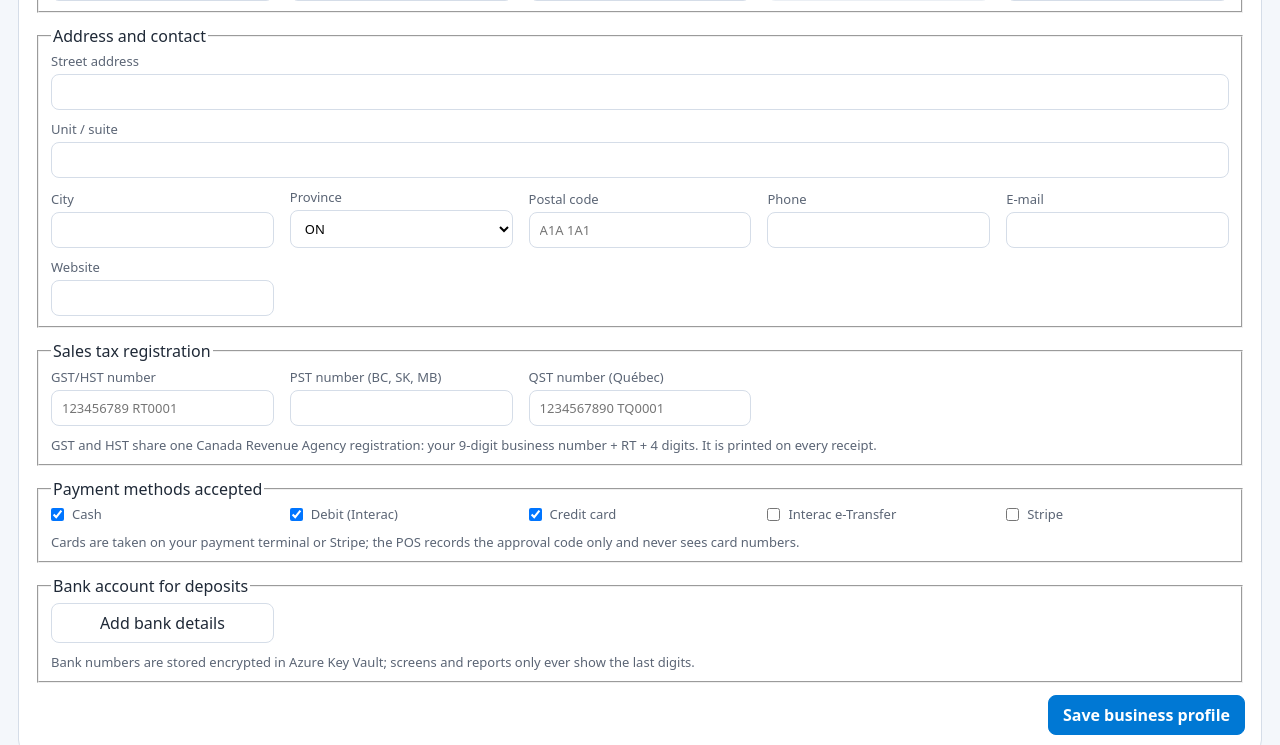
it: <Business> › shows API errors
(page scrolled)
Click the button "Save business profile" at x=1146, y=715, box [1048,695,1245,735]
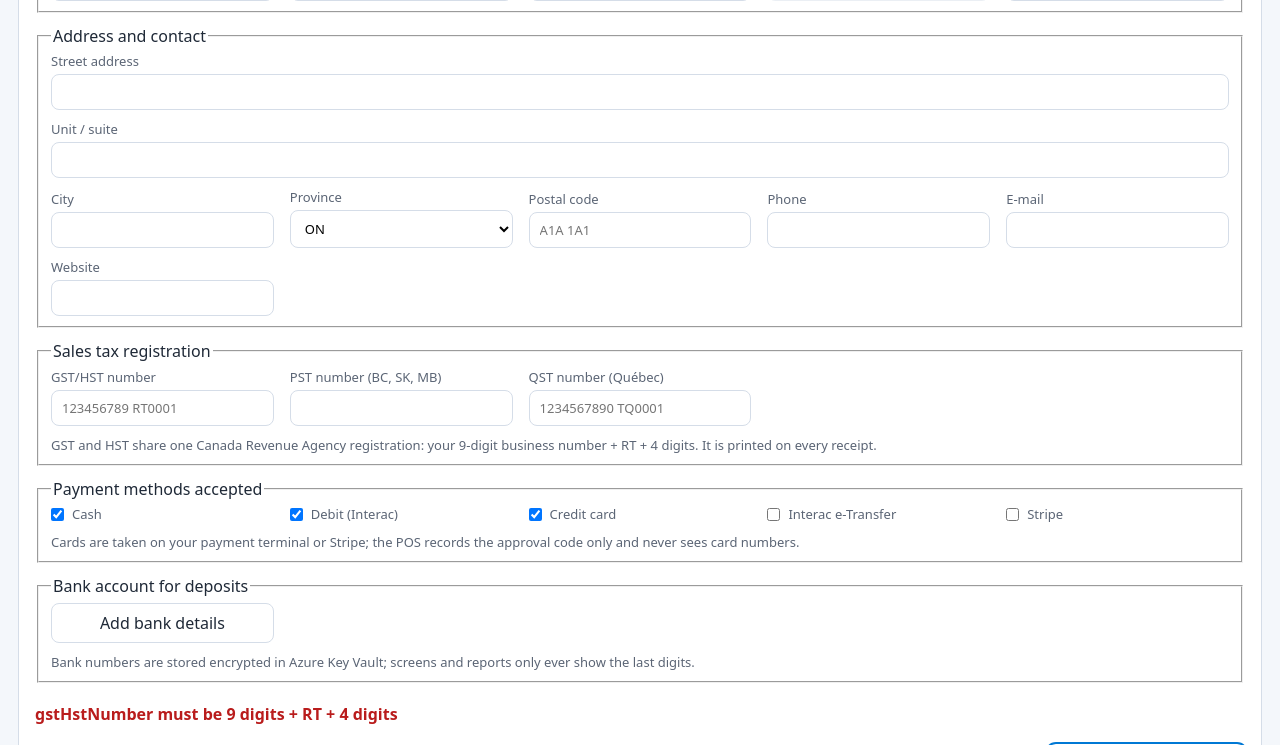
Expected: the message shows "RT", [35,703,398,725]
